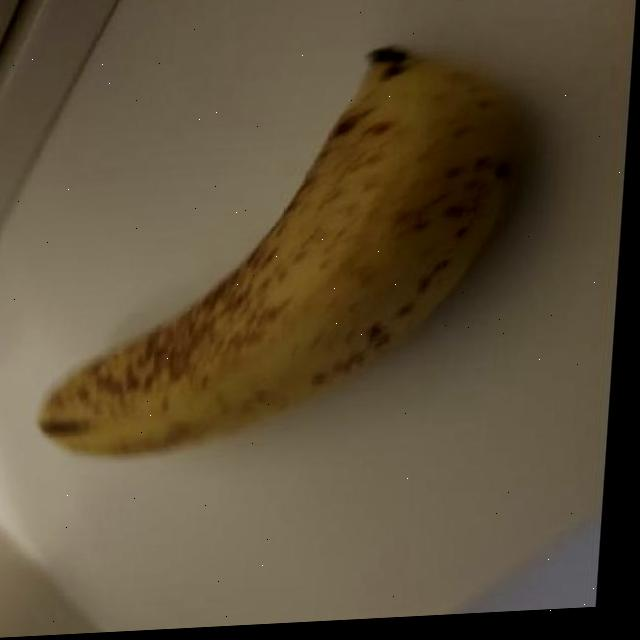banana: (28, 27, 529, 464)
